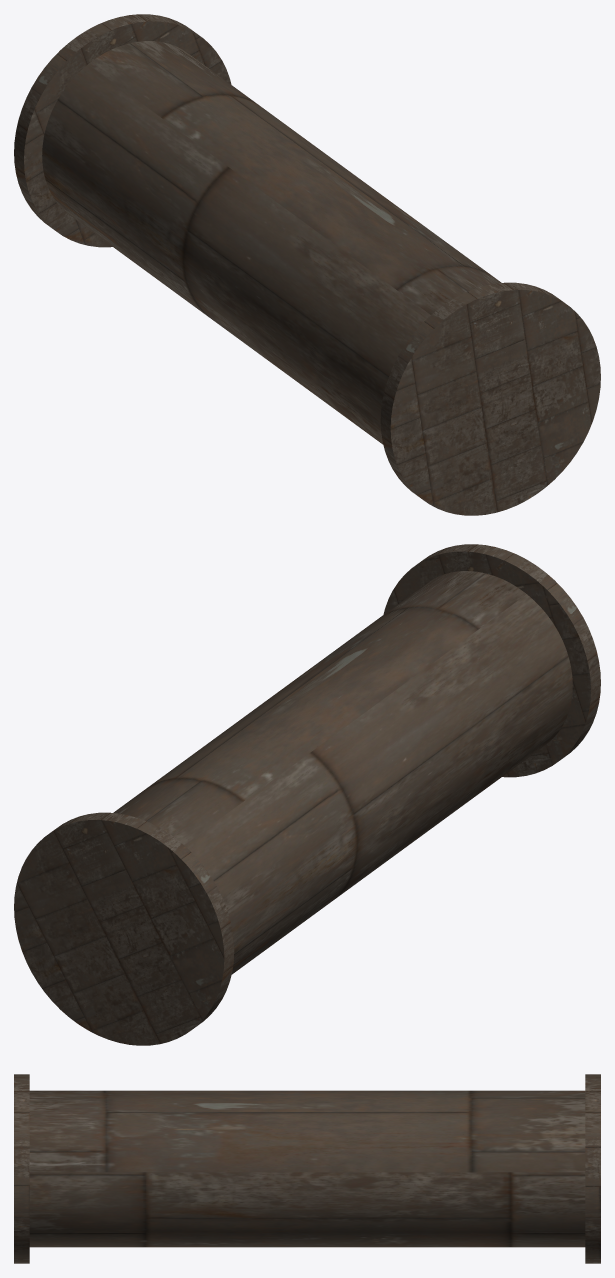
The model's file is pipewithtextures.fbx.
3 renders of one model, top to bottom at view 1: azimuth 30°, elevation 25°; view 2: azimuth 150°, elevation 25°; view 3: azimuth 270°, elevation 25°, orthographic. The views are drawn at different scales.
Parts seen in each view (by area): view 1: Cylinder; view 2: Cylinder; view 3: Cylinder.
Part boxes in pixels (left/top/right/bottom): Cylinder: left=14, top=14, right=600, bottom=515; Cylinder: left=14, top=544, right=600, bottom=1045; Cylinder: left=14, top=1074, right=600, bottom=1263.
Size of the model in its own units: 9.67 by 30 by 9.67.
1 material, 1 textured.
